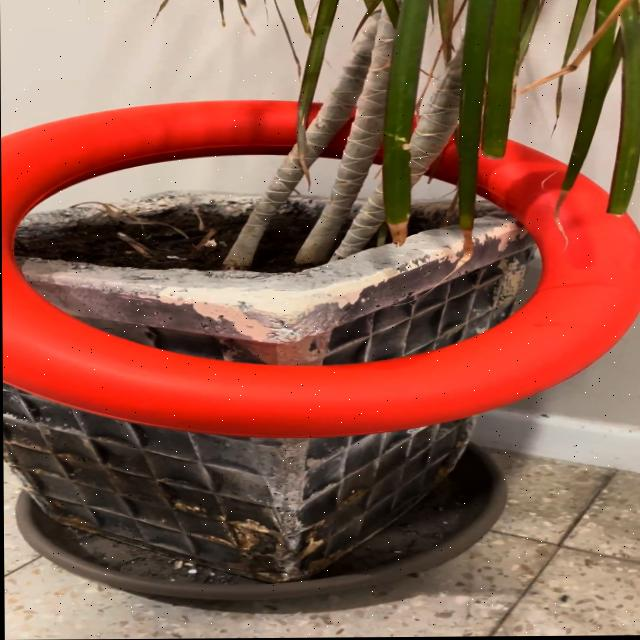note: (2, 96, 640, 441)
